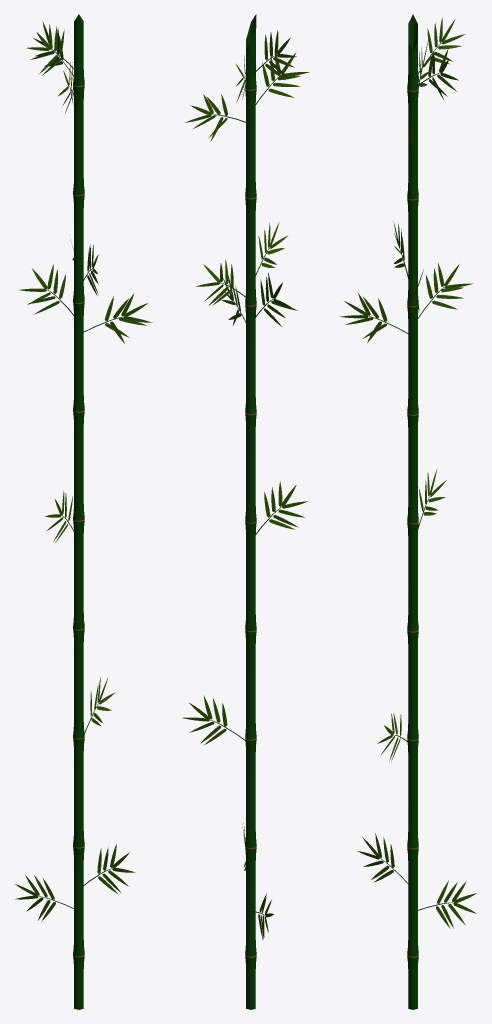
Rendered from BambooDv1.fbx.
The picture shows the model from 3 angles, left to right: view 1: azimuth 90°, elevation 25°; view 2: azimuth 210°, elevation 25°; view 3: azimuth 270°, elevation 25°; orthographic projection.
Parts seen in each view (by area): view 1: BambooD; view 2: BambooD; view 3: BambooD.
Boxes of the visible parts, left/top/right/bottom form: BambooD: left=15, top=14, right=152, bottom=1009; BambooD: left=182, top=14, right=309, bottom=1009; BambooD: left=339, top=14, right=476, bottom=1009.
Bounding box in the file's own units: 109 × 910 × 115.
